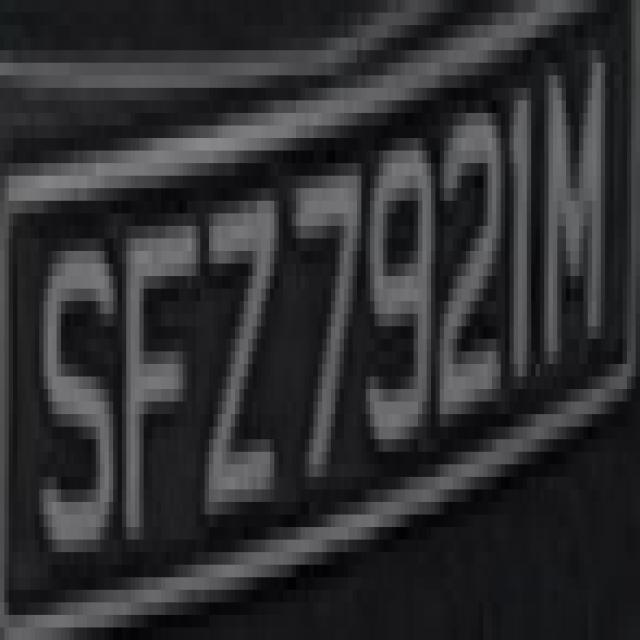1: (496, 25, 540, 439)
2: (431, 75, 505, 452)
7: (266, 138, 366, 540)
9: (361, 113, 440, 464)
F: (109, 138, 196, 565)
M: (531, 12, 610, 426)
S: (35, 226, 113, 565)
Z: (187, 176, 283, 527)
